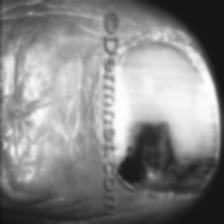Toxin: (117, 109, 216, 201)
